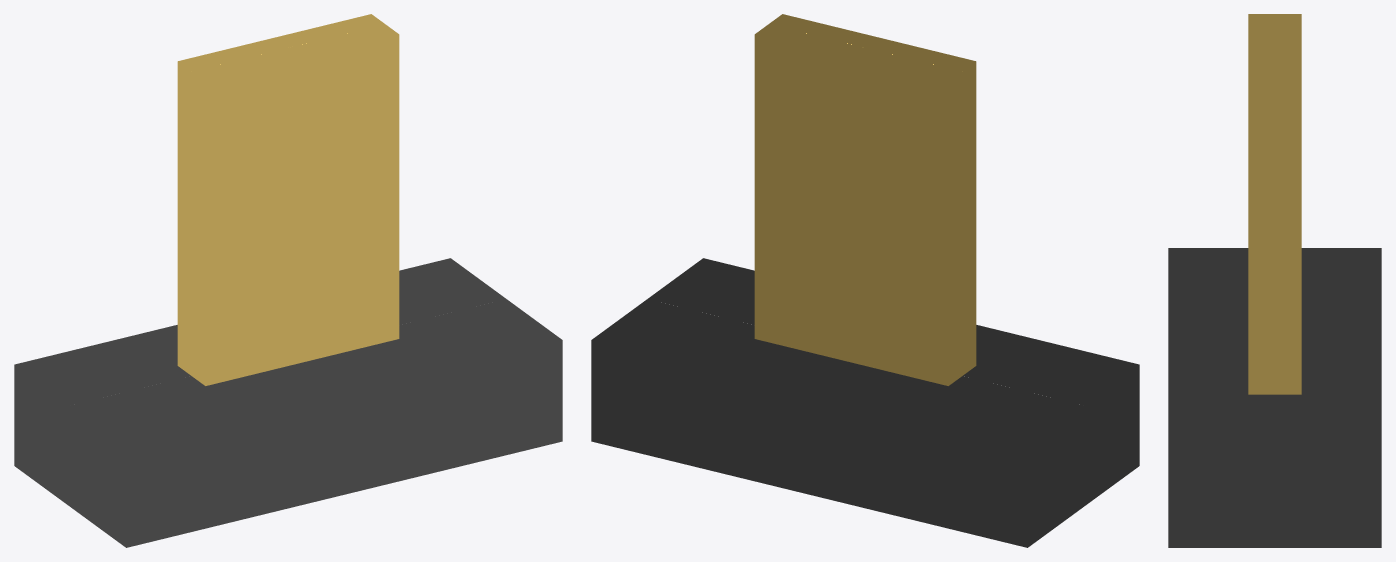
File: combinational_logic.glb
The picture shows the model from 3 angles, left to right: view 1: azimuth 30°, elevation 25°; view 2: azimuth 150°, elevation 25°; view 3: azimuth 270°, elevation 25°; orthographic projection. The views are drawn at different scales.
Parts seen in each view (by area): view 1: MuxChipPackage, SevenSegmentDisplay; view 2: MuxChipPackage, SevenSegmentDisplay; view 3: MuxChipPackage, SevenSegmentDisplay.
Boxes of the visible parts, x1,y1,x2,y2 form: MuxChipPackage: [14, 258, 562, 547]; SevenSegmentDisplay: [177, 14, 399, 385]; MuxChipPackage: [591, 258, 1139, 547]; SevenSegmentDisplay: [754, 14, 976, 385]; MuxChipPackage: [1168, 248, 1381, 547]; SevenSegmentDisplay: [1248, 14, 1301, 394].
Bounding box in the file's own units: 1.8 × 1.6 × 0.8.
